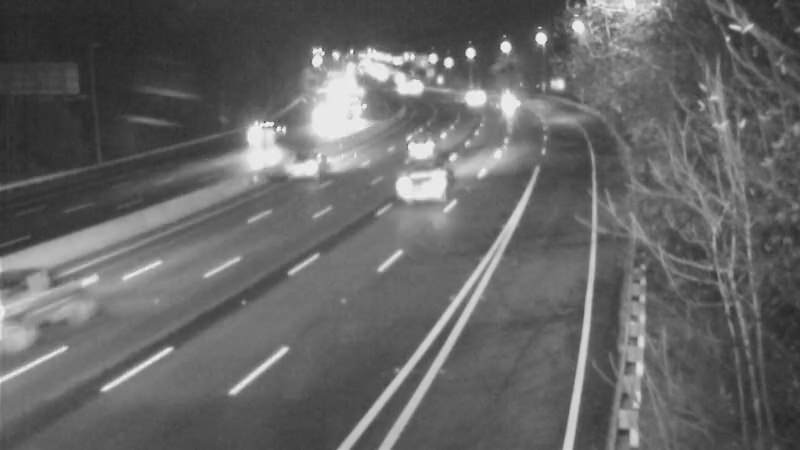vehicle: (1, 246, 105, 356), (279, 116, 359, 196), (368, 150, 448, 230), (388, 66, 438, 116), (442, 71, 492, 121), (479, 74, 529, 124), (395, 123, 445, 173), (236, 110, 286, 160)
